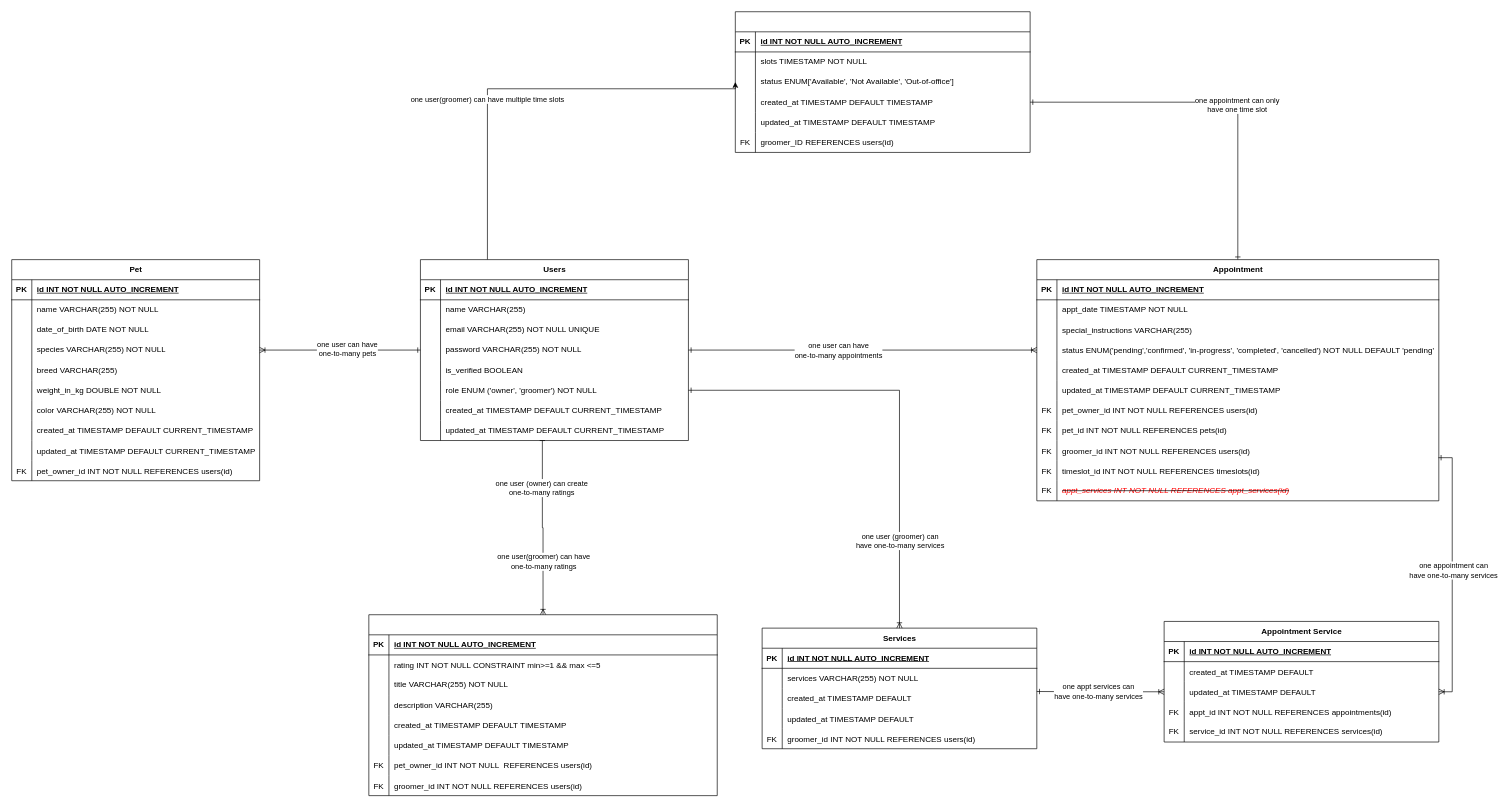
Image size: 1509x807. Some labels were removed from this diagram. Each missing label, with the box of its shape:
Reviews: (368, 614, 717, 796)
Time Slot: (735, 11, 1030, 152)
